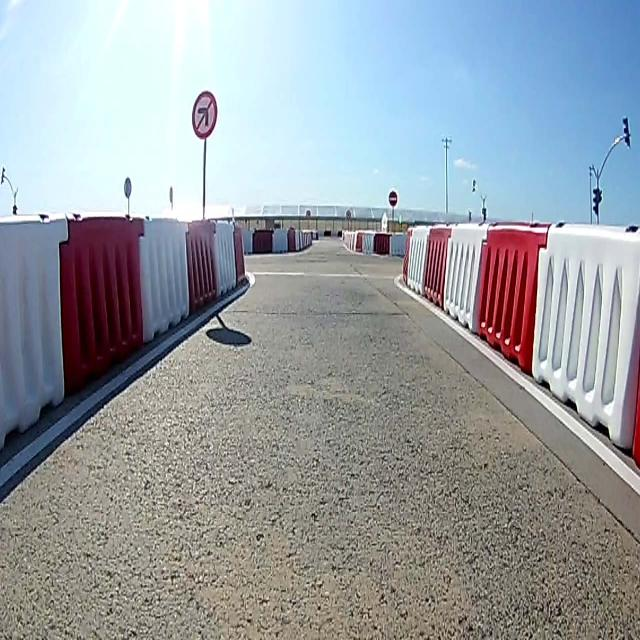girisyok: (388, 189, 398, 207)
soladonulmez: (192, 91, 218, 142)
